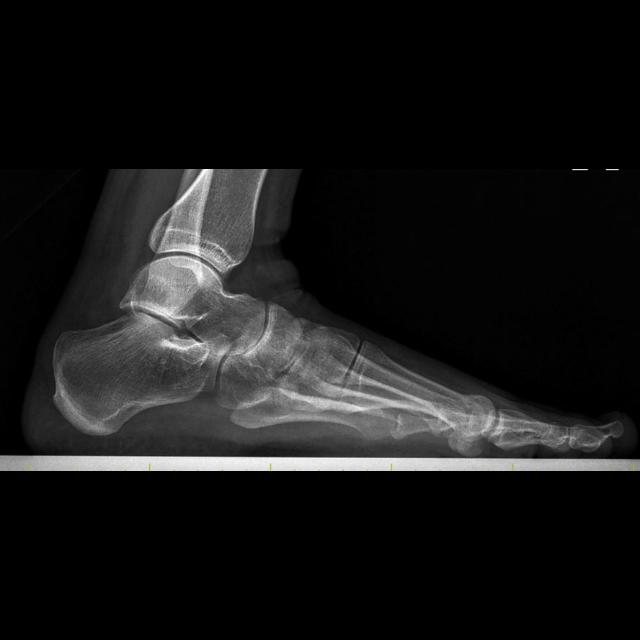a: (53, 313, 226, 435)
b: (243, 302, 303, 379)
c: (344, 343, 493, 439)
